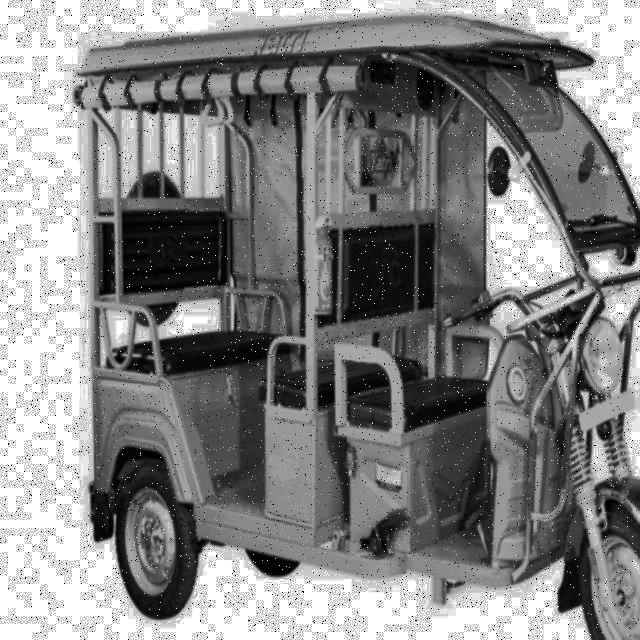Toto: (69, 3, 640, 640)
